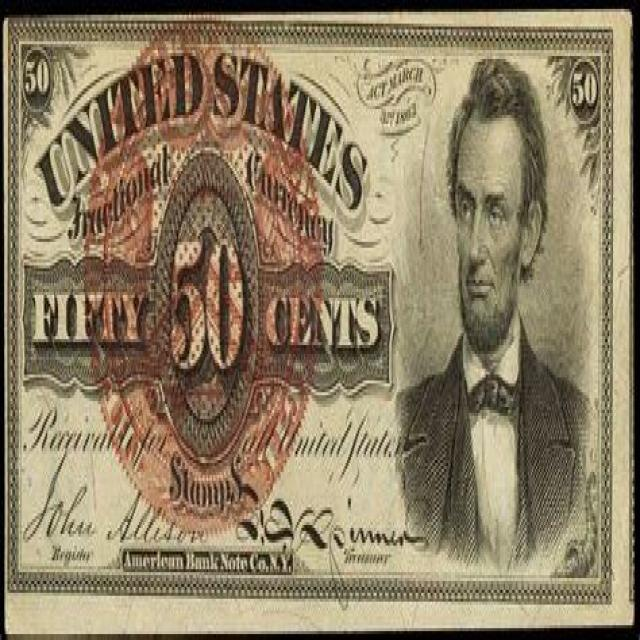banknote: (169, 231, 248, 382), (31, 287, 150, 346), (568, 62, 600, 120), (21, 51, 53, 103)
